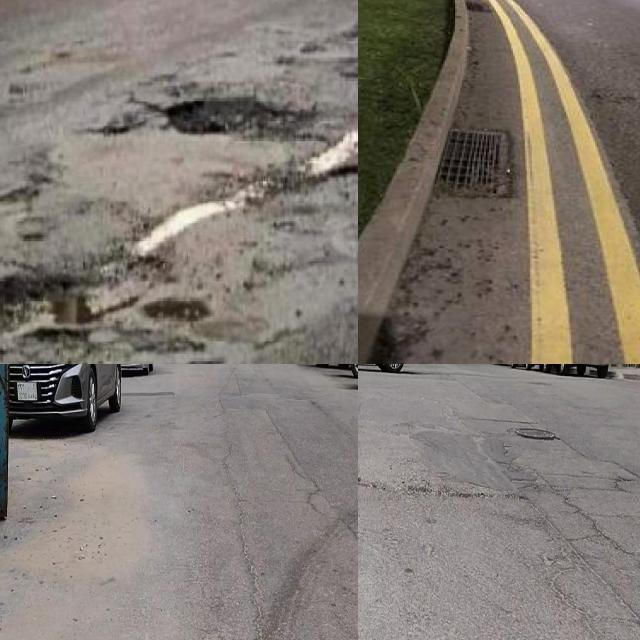Manhole: (437, 129, 511, 197)
Pothole: (0, 275, 137, 335), (165, 97, 320, 143), (106, 319, 210, 355), (88, 103, 152, 143), (143, 298, 211, 319), (0, 185, 40, 202), (336, 58, 358, 78), (276, 56, 294, 65), (343, 28, 358, 38)
